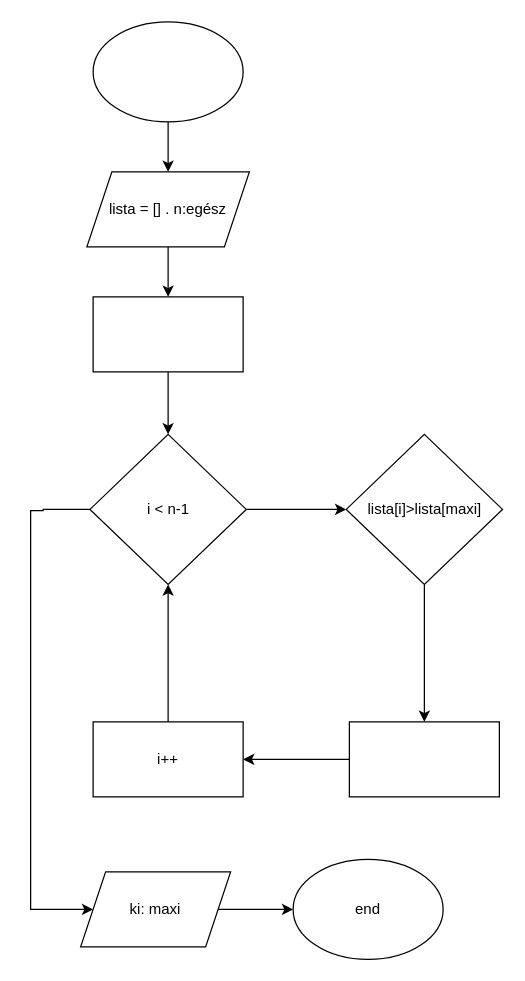
This 525x981 diagram has some shape labels left out. The shapes that lost their labels are listed below. From the top down, each one's centre as x and y in pixels, then its label:
At [167,71]: "start".
At [167,334]: "maxi = 0, i = 0".
At [423,759]: "maxi = i".
